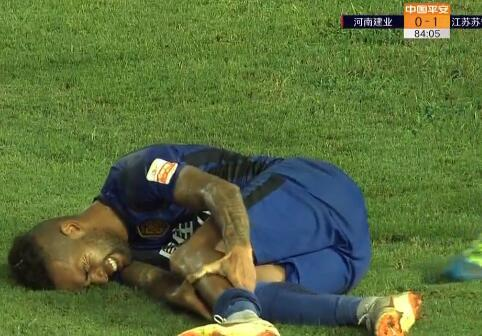fall: (10, 127, 423, 336)
